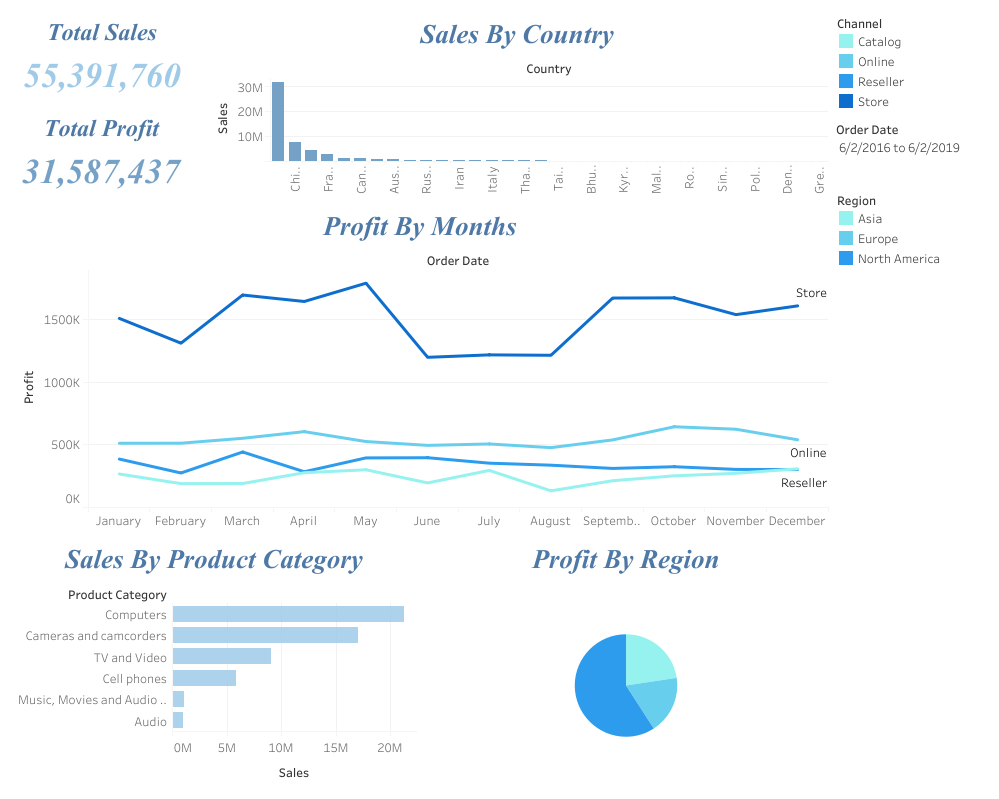

What the dashboard file says about the page in this screenshot:
{"tool":"tableau","page":{"name":"Company_Report","canvas":[1000,800],"ordinal":0},"visuals":[{"type":"worksheet","title":"Total_Sales","mark":"Automatic","box":[8,8,194,96]},{"type":"worksheet","title":"Sales_By_Country","mark":"Automatic","rows":["Sales"],"cols":["Country"],"box":[202,8,630,192]},{"type":"legend","title":"Profit_By_Months","param":"[federated.1jjpg1y1uj743c169y43z0dqw7n9].[none:Channel:nk]","box":[832,8,160,107]},{"type":"worksheet","title":"Total_Profit","mark":"Automatic","box":[8,104,194,96]},{"type":"filter","title":"Profit_By_Months","param":"[federated.1jjpg1y1uj743c169y43z0dqw7n9].[none:Order Date:qk]","box":[832,115,160,70]},{"type":"legend","title":"Profit_By_Region","param":"[federated.1jjpg1y1uj743c169y43z0dqw7n9].[none:Region:nk]","box":[832,185,160,87]},{"type":"worksheet","title":"Profit_By_Months","mark":"Automatic","rows":["Profit"],"cols":["Order Date"],"box":[8,200,824,333]},{"type":"worksheet","title":"Sales_By_Product_Category","mark":"Automatic","rows":["Product Category"],"cols":["Sales"],"box":[8,533,412,259]},{"type":"worksheet","title":"Profit_By_Region","mark":"Pie","box":[420,533,412,259]}]}

Visuals, with their boxes in screenshot pixels (x1, y1, x2, y2), scaled from the page's 1000x800 canvas onto the 999x799 screenshot:
"Total_Sales" worksheet: region(8, 8, 202, 104)
"Sales_By_Country" worksheet: region(202, 8, 831, 200)
"Profit_By_Months" legend: region(831, 8, 991, 115)
"Total_Profit" worksheet: region(8, 104, 202, 200)
"Profit_By_Months" filter: region(831, 115, 991, 185)
"Profit_By_Region" legend: region(831, 185, 991, 272)
"Profit_By_Months" worksheet: region(8, 200, 831, 532)
"Sales_By_Product_Category" worksheet: region(8, 532, 420, 791)
"Profit_By_Region" worksheet (Pie marks): region(420, 532, 831, 791)
